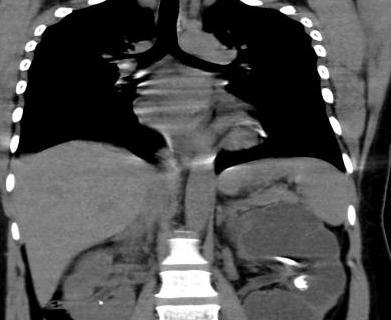Tas_Var: (272, 253, 304, 269), (292, 275, 310, 291), (98, 298, 105, 306)
